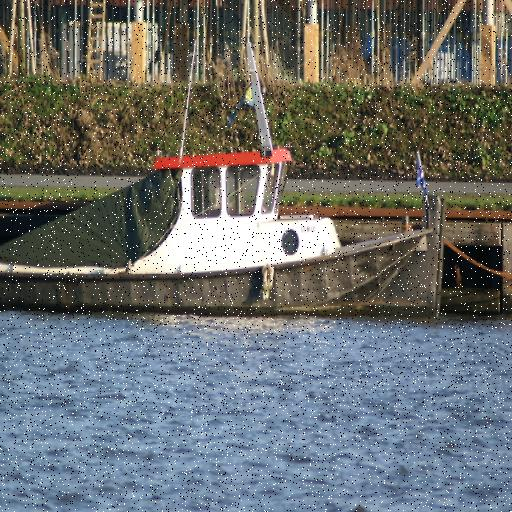tugboat: (1, 141, 453, 335)
